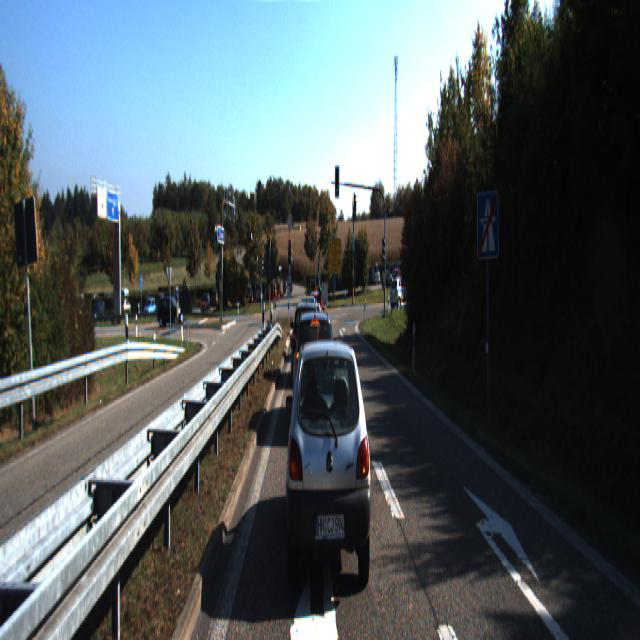Car: (284, 327, 376, 608), (292, 310, 338, 439), (390, 278, 414, 312)
